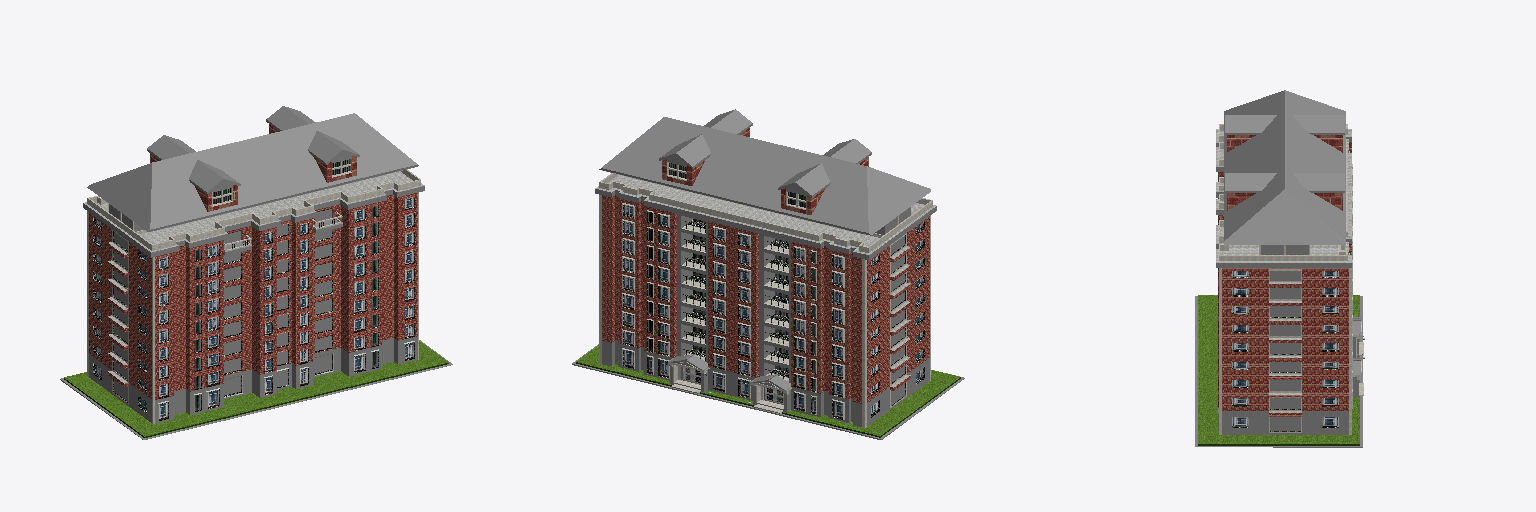
3 renders of one model, left to right at view 1: azimuth 30°, elevation 25°; view 2: azimuth 150°, elevation 25°; view 3: azimuth 270°, elevation 25°, orthographic.
Visible parts, largest first — view 1: low_building2; view 2: low_building2; view 3: low_building2.
Boxes of the visible parts, box(x1,y1,x2,y2) form: low_building2: box(60, 106, 452, 439); low_building2: box(572, 109, 964, 439); low_building2: box(1195, 90, 1364, 447).
Bounding box in the file's own units: 447 × 321 × 213.
17 materials, 9 textured.